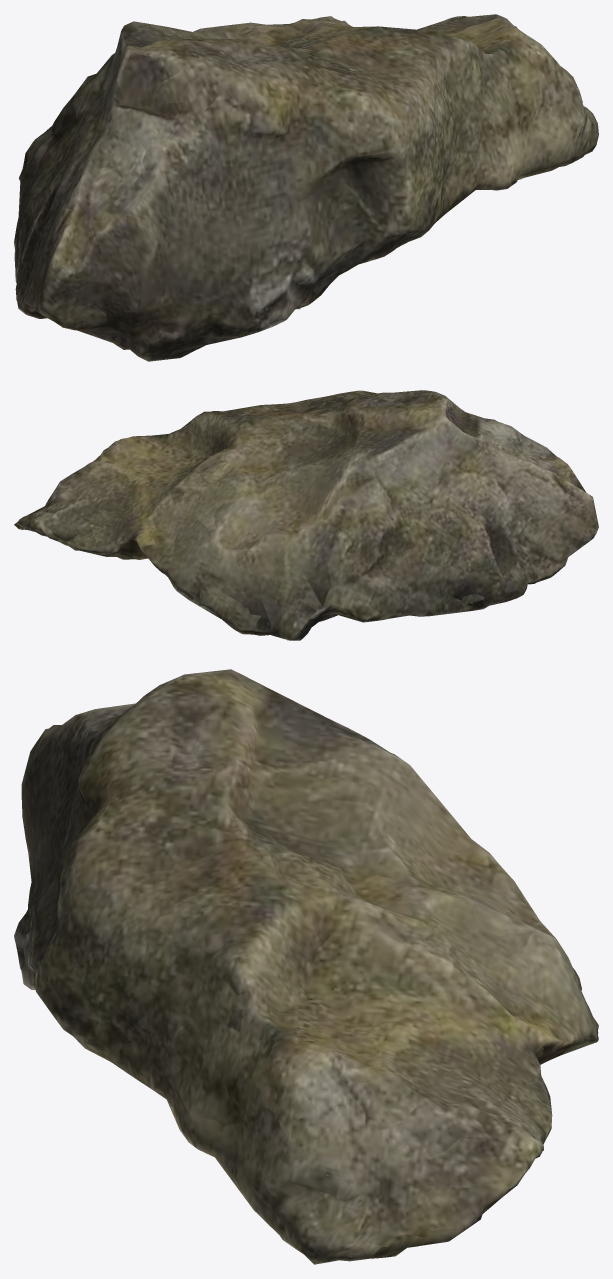
Rendered from rock_moss_set_02_rock09.glb.
3 renders of one model, top to bottom at view 1: azimuth 30°, elevation 25°; view 2: azimuth 150°, elevation 25°; view 3: azimuth 270°, elevation 25°, orthographic. The views are drawn at different scales.
Parts seen in each view (by area): view 1: rock_moss_set_02_rock09__lod0, rock_moss_set_02_rock09__lodS; view 2: rock_moss_set_02_rock09__lod0, rock_moss_set_02_rock09__lodS; view 3: rock_moss_set_02_rock09__lod0, rock_moss_set_02_rock09__lodS.
Part boxes in pixels (x1,y1,x2,y2): rock_moss_set_02_rock09__lod0: (14,14,598,361); rock_moss_set_02_rock09__lodS: (15,14,594,361); rock_moss_set_02_rock09__lod0: (14,390,596,640); rock_moss_set_02_rock09__lodS: (14,390,598,639); rock_moss_set_02_rock09__lod0: (14,669,598,1264); rock_moss_set_02_rock09__lodS: (16,669,598,1261).
Bounding box in the file's own units: 1.63 × 0.6099 × 1.01.
Materials: 1 (1 with a texture image).
